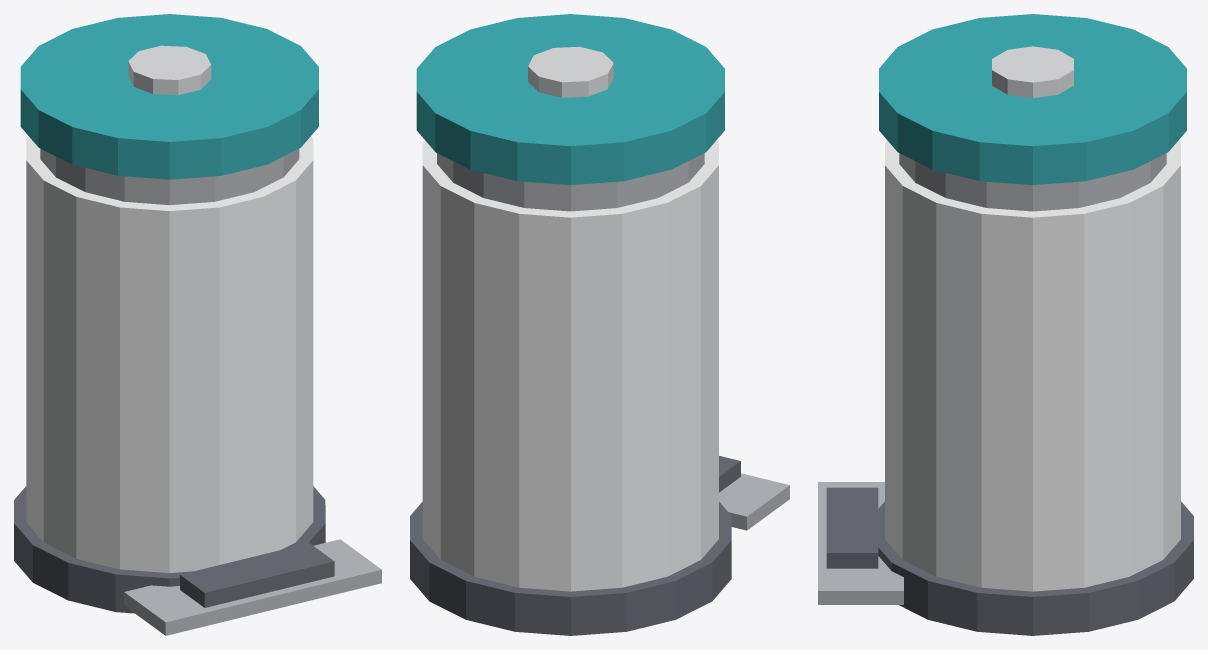
The picture shows the model from 3 angles, left to right: view 1: azimuth 30°, elevation 25°; view 2: azimuth 150°, elevation 25°; view 3: azimuth 270°, elevation 25°; orthographic projection. The views are drawn at different scales.
Visible parts, largest first — view 1: pedal-waste-bin, lid/teal, lid/steel; view 2: pedal-waste-bin, lid/teal, lid/steel; view 3: pedal-waste-bin, lid/teal, lid/steel.
Boxes of the visible parts, box(x1,y1,x2,y2) form: pedal-waste-bin: box(14, 136, 381, 635); lid/teal: box(20, 14, 318, 179); lid/steel: box(128, 45, 211, 95); pedal-waste-bin: box(410, 140, 789, 635); lid/teal: box(416, 14, 724, 184); lid/steel: box(528, 46, 613, 97); pedal-waste-bin: box(818, 140, 1193, 635); lid/teal: box(879, 14, 1186, 184); lid/steel: box(992, 46, 1073, 98).
Size of the model in its own units: 0.38 by 0.645 by 0.4371.
